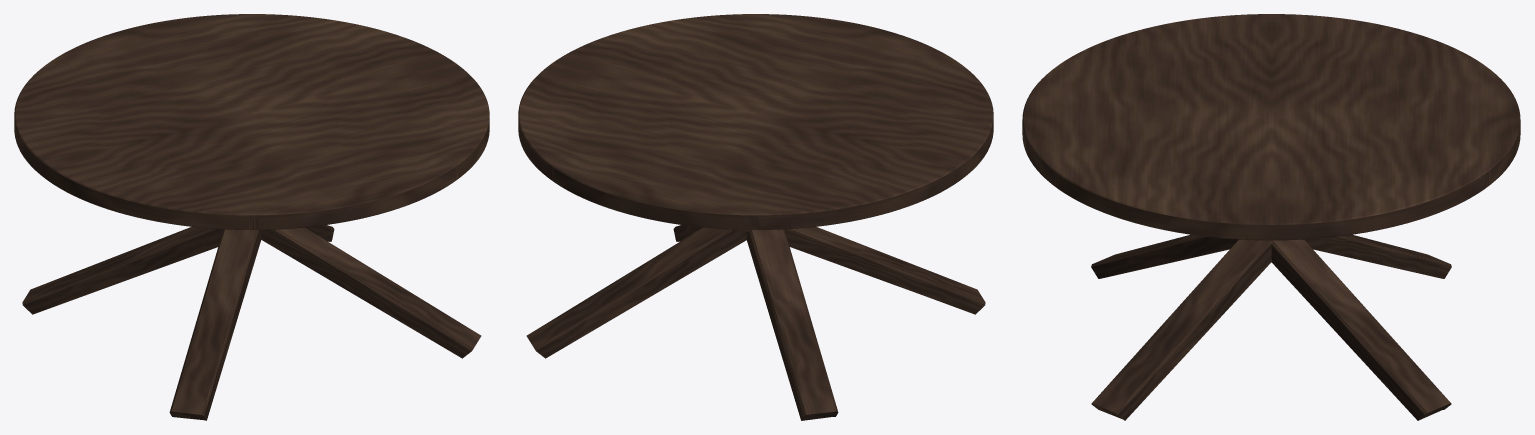
Rendered from round-walnut.glb.
The picture shows the model from 3 angles, left to right: view 1: azimuth 30°, elevation 25°; view 2: azimuth 150°, elevation 25°; view 3: azimuth 270°, elevation 25°; orthographic projection. The views are drawn at different scales.
Parts seen in each view (by area): view 1: Wood_Round, Base_Round; view 2: Wood_Round, Base_Round; view 3: Wood_Round, Base_Round.
Boxes of the visible parts, <box> form: Wood_Round: <box>14,14,489,229</box>; Base_Round: <box>22,225,481,420</box>; Wood_Round: <box>518,14,993,229</box>; Base_Round: <box>526,225,985,420</box>; Wood_Round: <box>1022,14,1520,240</box>; Base_Round: <box>1091,234,1451,420</box>.
Bounding box in the file's own units: 1.52 × 0.762 × 1.52.
2 materials, 2 textured.
